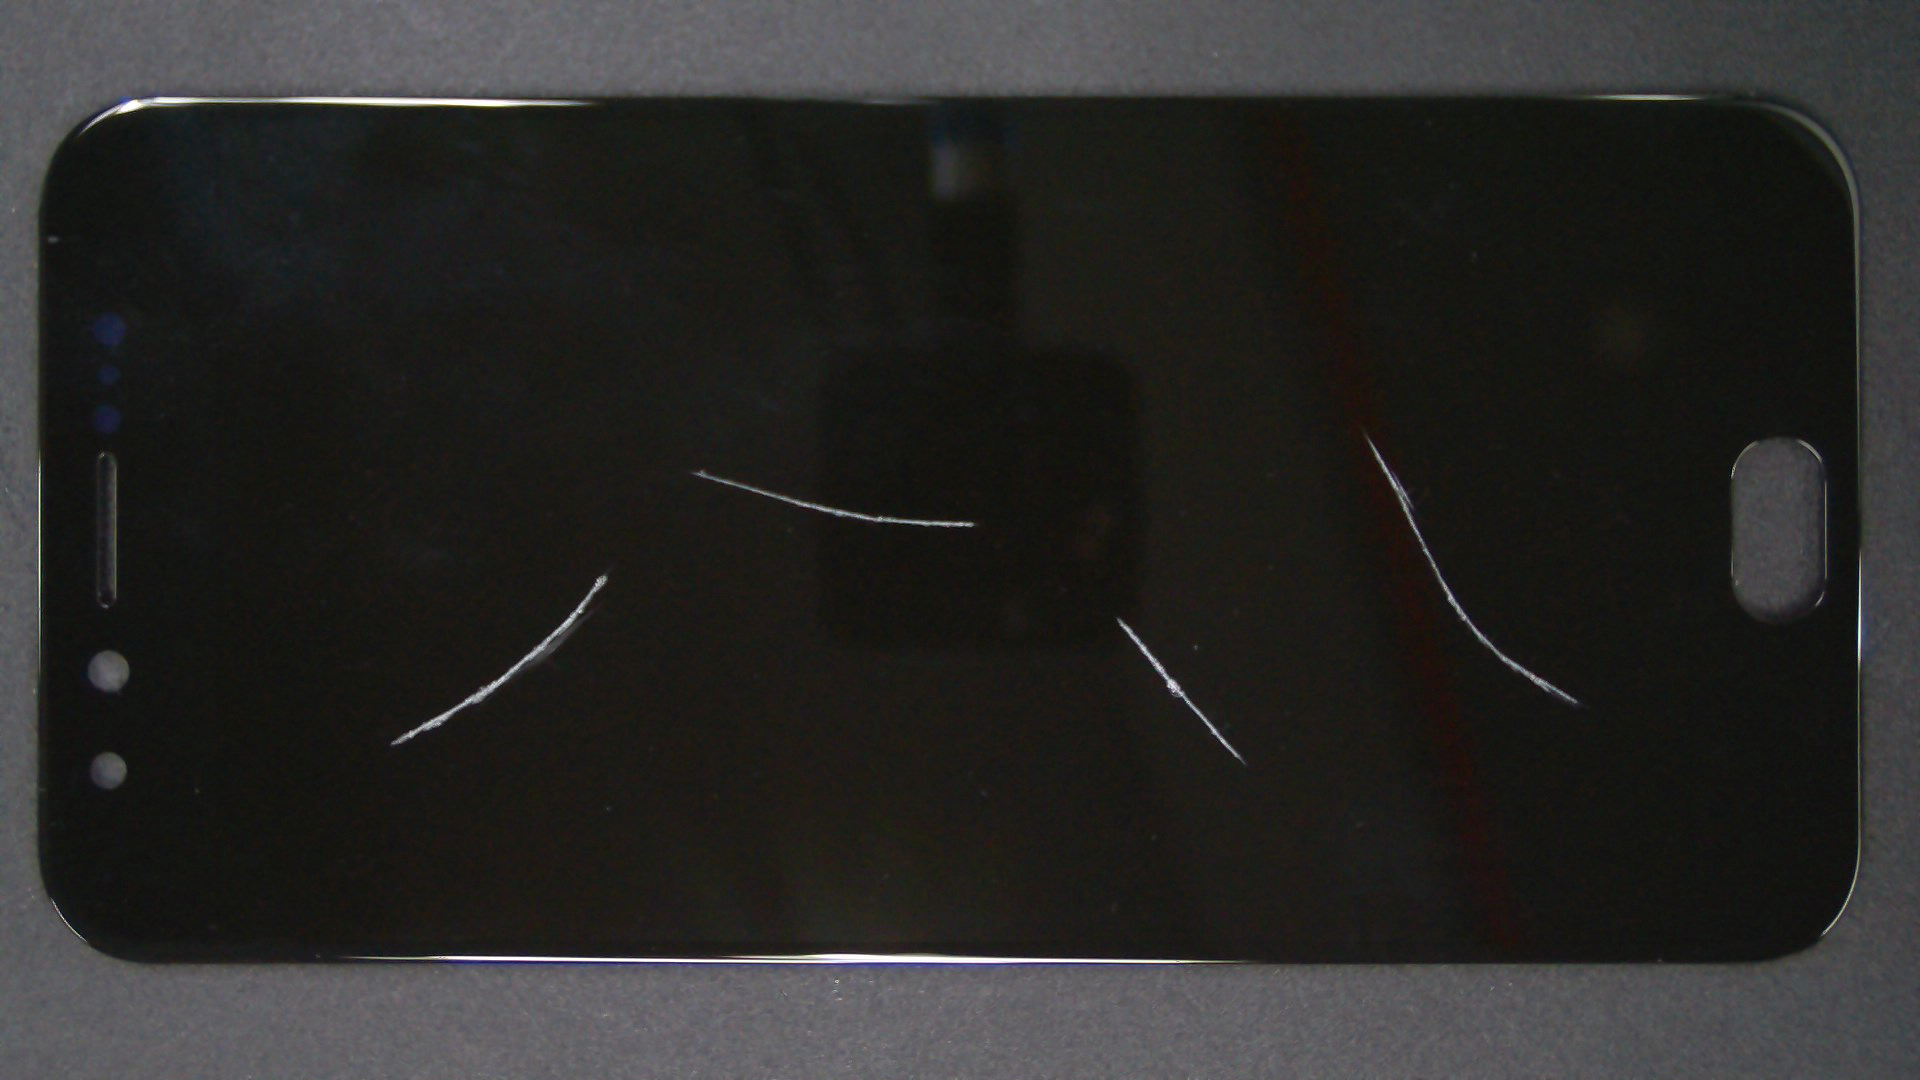defect: (1364, 436, 1577, 705), (388, 574, 608, 745), (1116, 616, 1244, 765), (694, 469, 975, 527)
